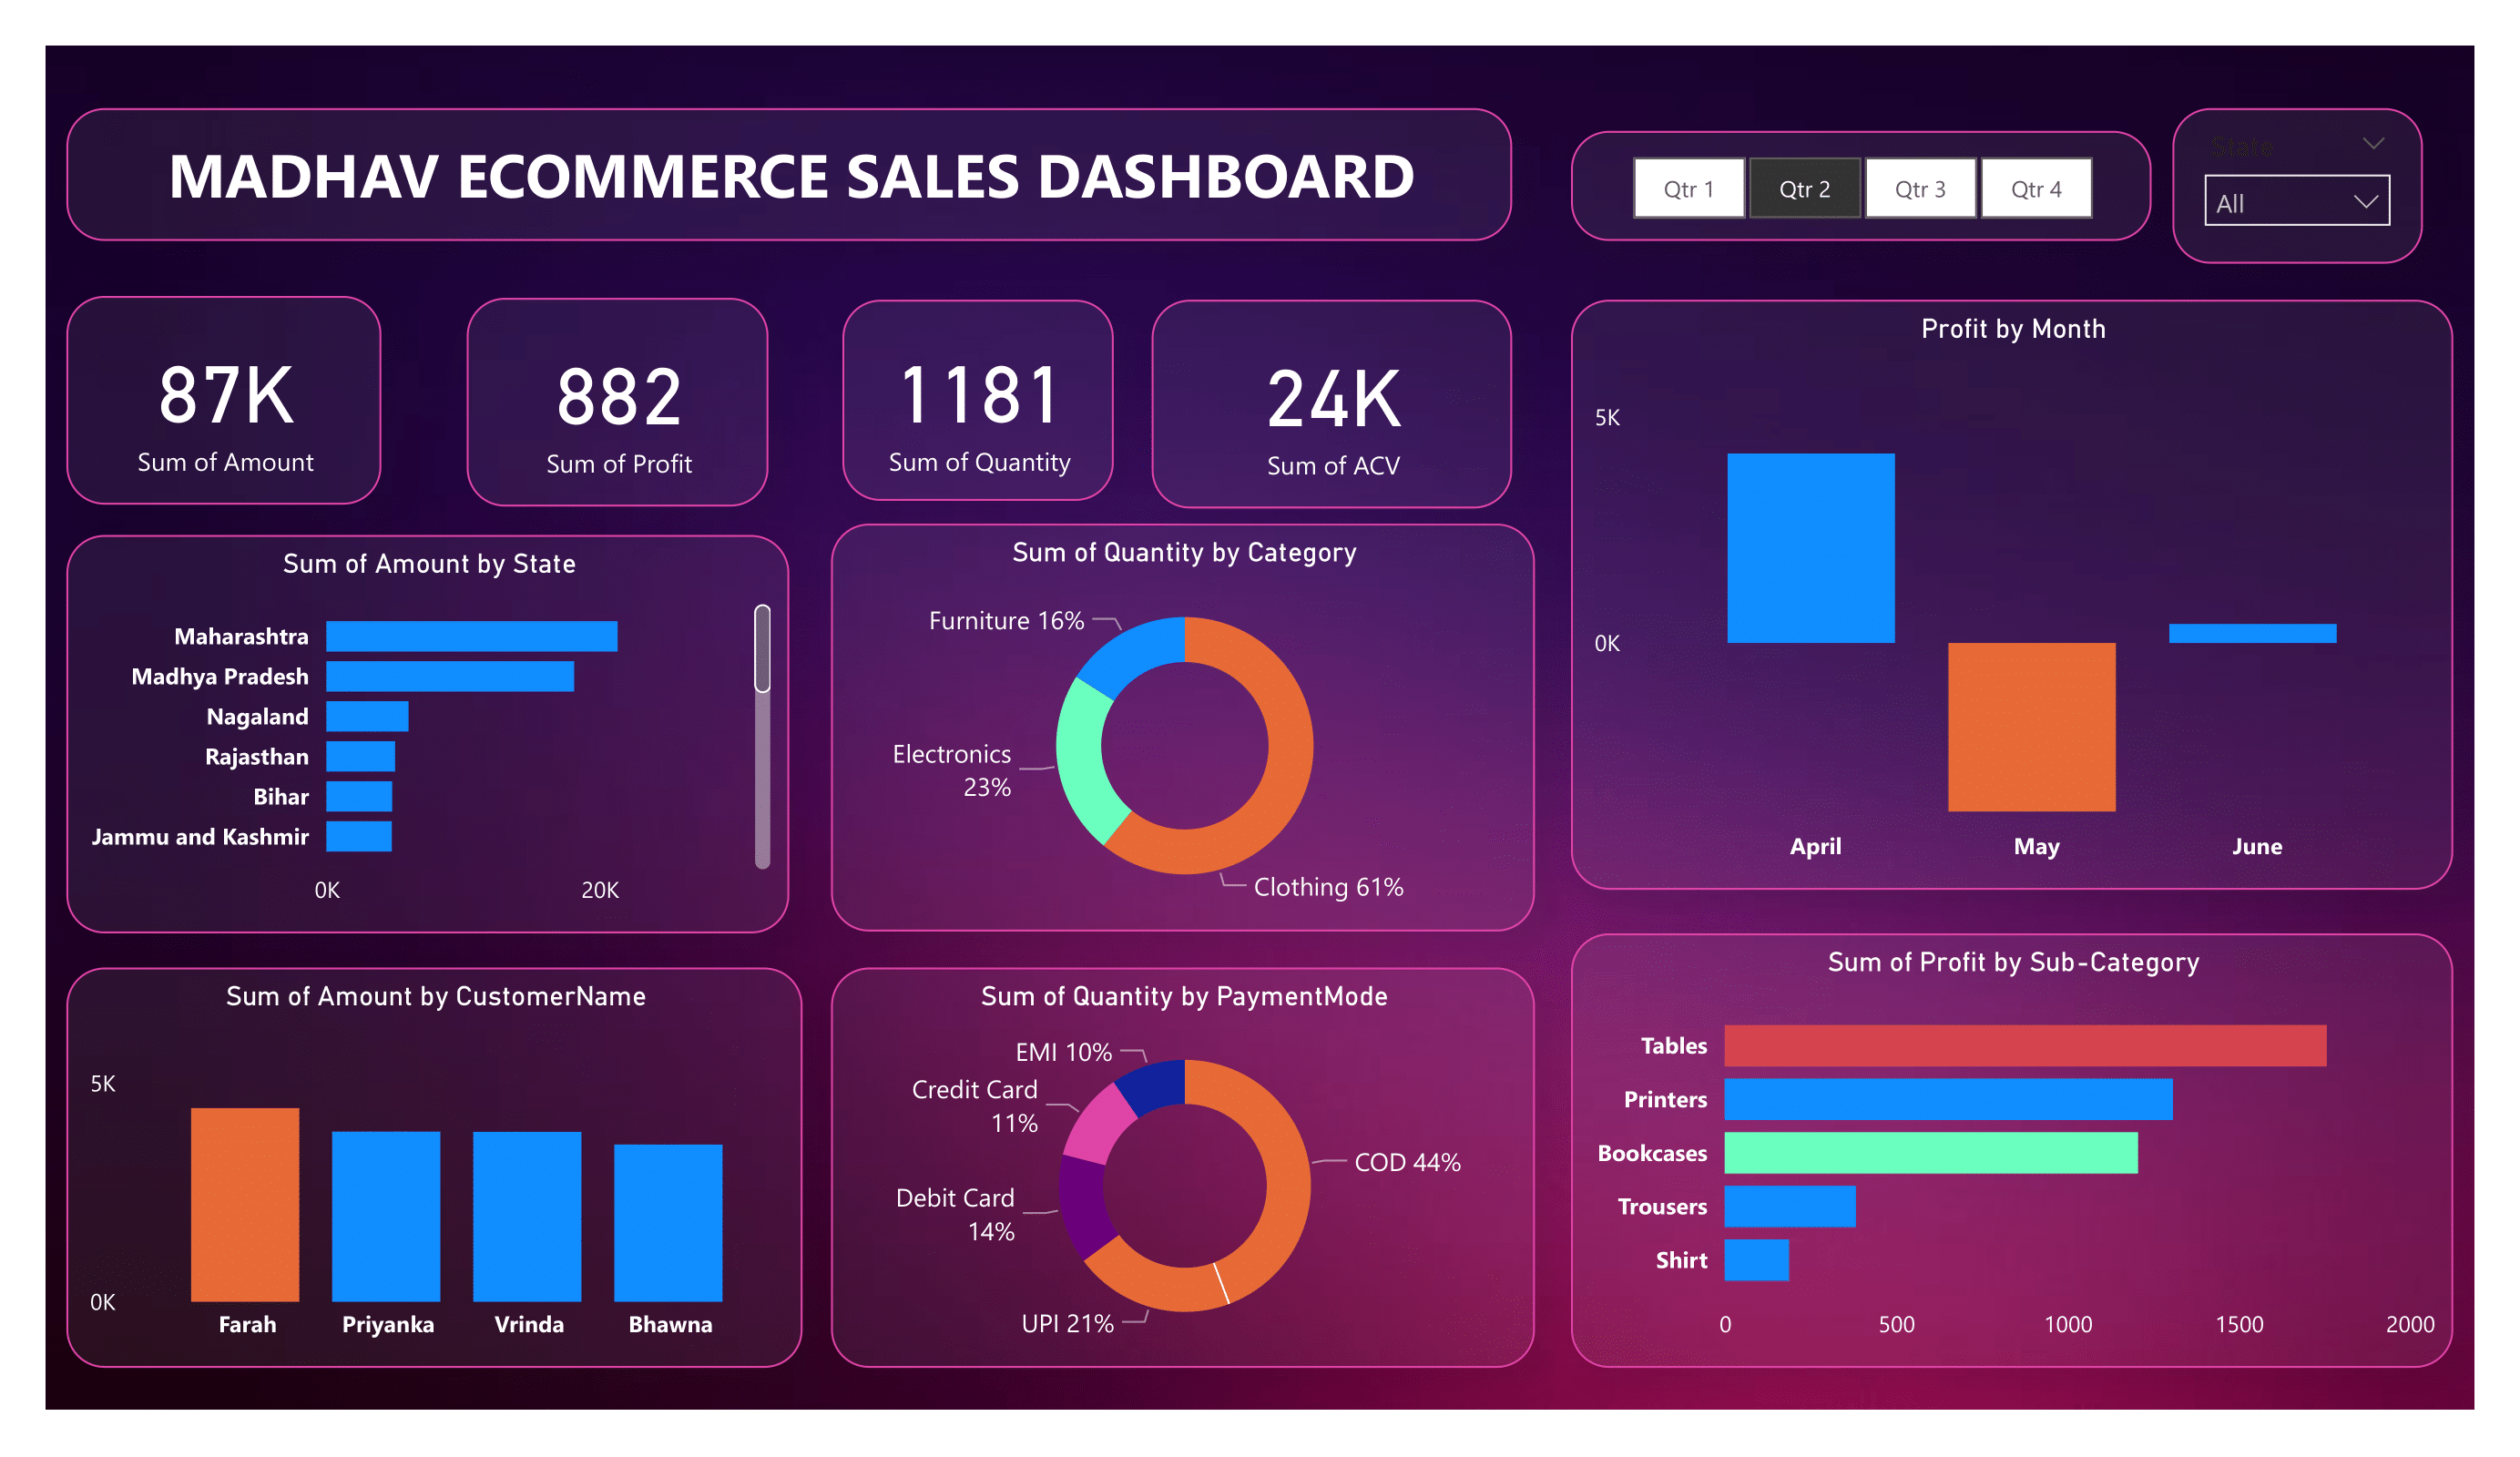

What the dashboard file says about the page in this screenshot:
{"tool":"powerbi","page":{"name":"Page 1","canvas":[1280,720],"ordinal":0},"visuals":[{"type":"textbox","box":[11,32.9,761.6,70],"z":0},{"type":"columnChart","title":"Profit by Month","fields":{"Category":["Orders1.Order Date.Variation.Date Hierarchy.Month"],"Y":["Details1.Profit"]},"box":[804.1,134.5,465.2,310.1],"z":1000},{"type":"barChart","fields":{"Category":["Details1.Sub-Category"],"Y":["Details1.Profit"]},"box":[804.1,467.9,465.2,229.2],"z":2000},{"type":"donutChart","fields":{"Category":["Details1.Category"],"Y":["Details1.Quantity"]},"box":[414.4,252.5,370.5,214.1],"z":3000},{"type":"donutChart","fields":{"Y":["Details1.Quantity"],"Category":["Details1.PaymentMode"]},"box":[414.4,485.8,370.5,211.3],"z":4000},{"type":"card","fields":{"Values":["Details1.Amount"]},"box":[11,131.7,166,109.8],"z":4001},{"type":"card","fields":{"Values":["Details1.Quantity"]},"box":[419.9,134.5,142.7,105.7],"z":4002},{"type":"card","fields":{"Values":["Details1.Profit"]},"box":[222.3,133.1,159.2,109.8],"z":4003},{"type":"card","fields":{"Values":["Details1.ACV"]},"box":[583.2,134.5,189.4,109.8],"z":4004},{"type":"barChart","fields":{"Category":["Orders1.State"],"Y":["Details1.Amount"]},"box":[9.6,253.9,389.7,214.1],"z":4005},{"type":"columnChart","fields":{"Category":["Orders1.CustomerName"],"Y":["Details1.Amount"]},"box":[11,485.8,388.3,211.3],"z":4006},{"type":"slicer","fields":{"Values":["Orders1.State"]},"box":[1121.1,32.9,131.7,82.3],"z":4007},{"type":"slicer","fields":{"Values":["Orders1.Order Date.Variation.Date Hierarchy.Quarter"]},"box":[804.1,45.3,306,57.6],"z":4008}]}

Visuals, with their boxes on the page's 1280x720 design canvas (x1, y1, x2, y2). These are canvas units, not pixel positions in the 2520x1457 screenshot, which may show the page scaled, cropped or inside an application window:
textbox: [11, 33, 773, 103]
"Profit by Month" columnChart: [804, 134, 1269, 445]
barChart - Details1.Sub-Category x Details1.Profit: [804, 468, 1269, 697]
donutChart - Details1.Category x Details1.Quantity: [414, 252, 785, 467]
donutChart - Details1.Quantity x Details1.PaymentMode: [414, 486, 785, 697]
card - Details1.Amount: [11, 132, 177, 242]
card - Details1.Quantity: [420, 134, 563, 240]
card - Details1.Profit: [222, 133, 382, 243]
card - Details1.ACV: [583, 134, 773, 244]
barChart - Orders1.State x Details1.Amount: [10, 254, 399, 468]
columnChart - Orders1.CustomerName x Details1.Amount: [11, 486, 399, 697]
slicer - Orders1.State: [1121, 33, 1253, 115]
slicer - Orders1.Order Date.Variation.Date Hierarchy.Quarter: [804, 45, 1110, 103]
